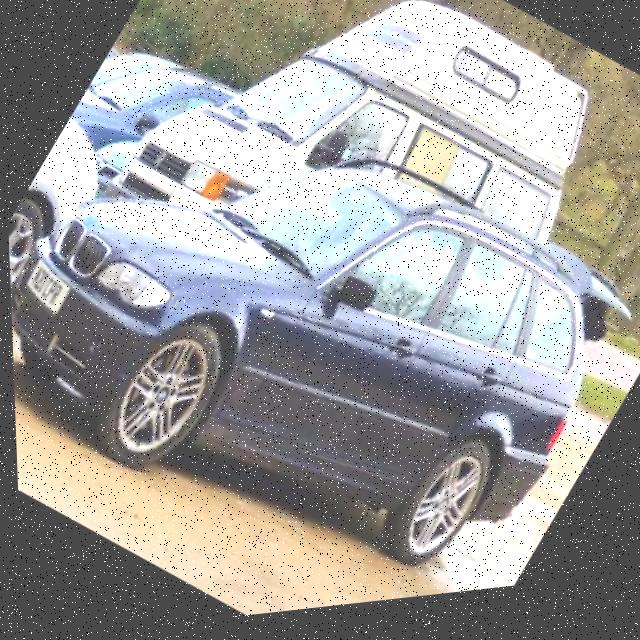license_plate: (12, 256, 78, 324)
